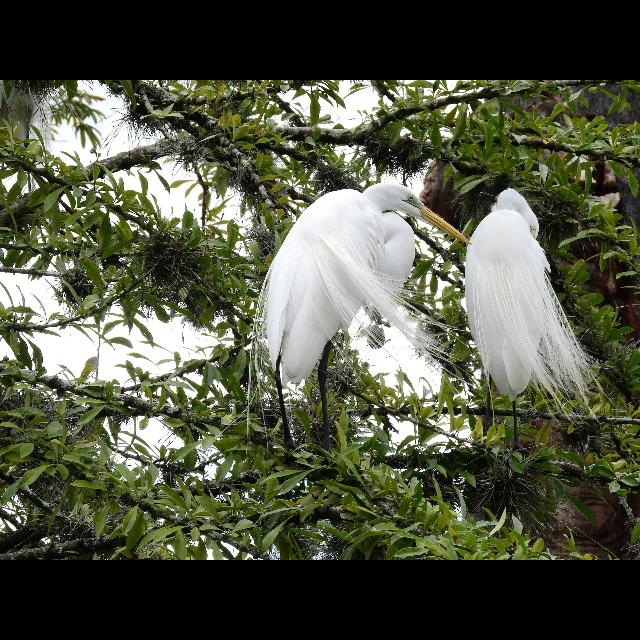egret: (251, 180, 465, 442), (472, 187, 598, 441)
